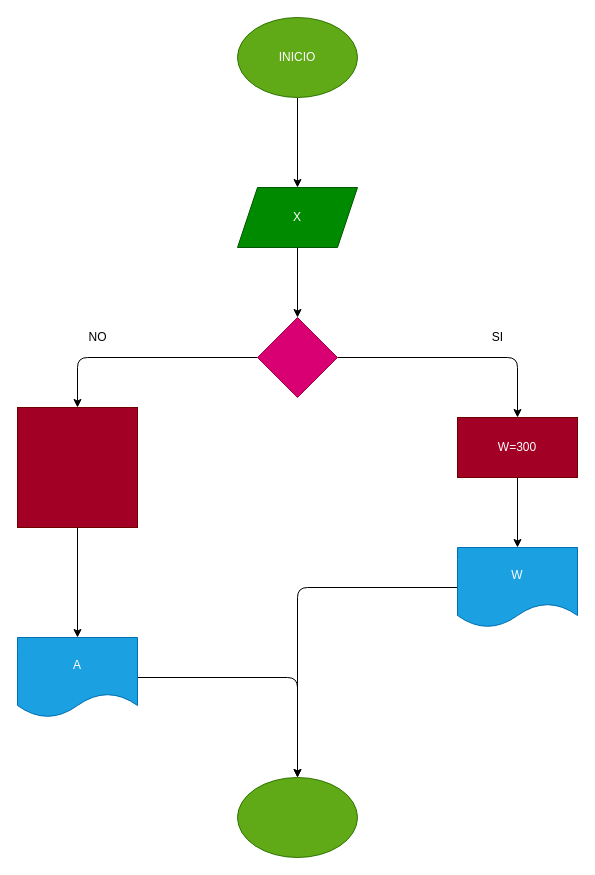
This 595x875 diagram has some shape labels left out. Here are the shapes that lost their labels. From the top down, the centre of each, then its label:
pixel 297 357: X<=3
pixel 77 467: W=300 Y=X-3 Z=Y*50 A=W+Z
pixel 297 817: FIN
